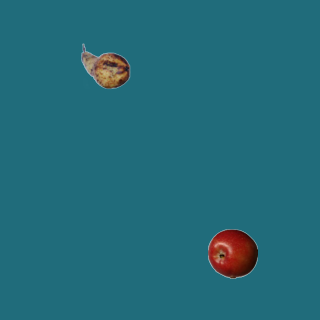Apple Braeburn: (207, 228, 257, 278)
Pear Abate: (80, 41, 130, 91)
